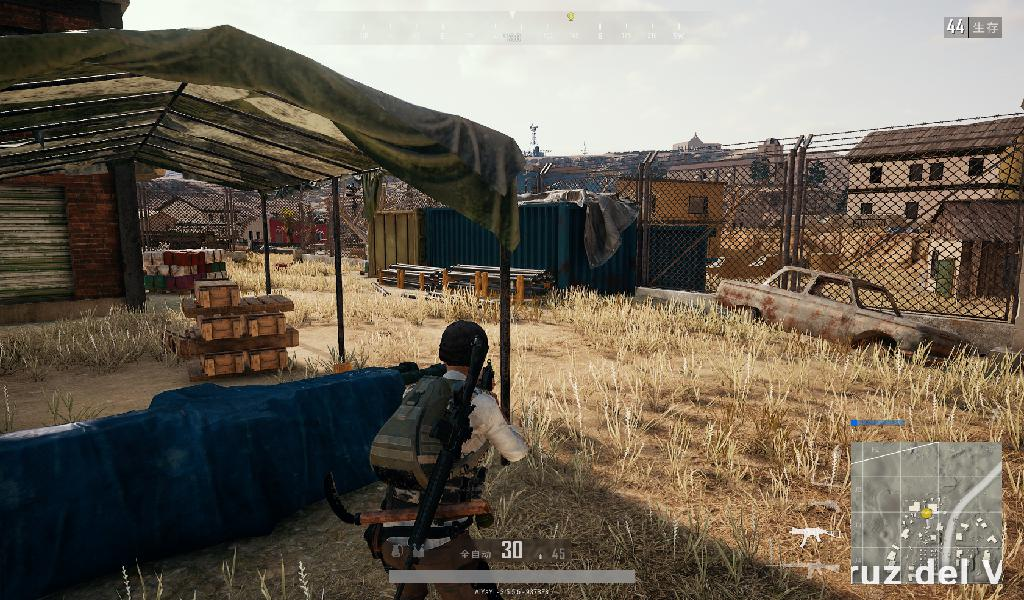Target Person: (329, 320, 530, 600)
